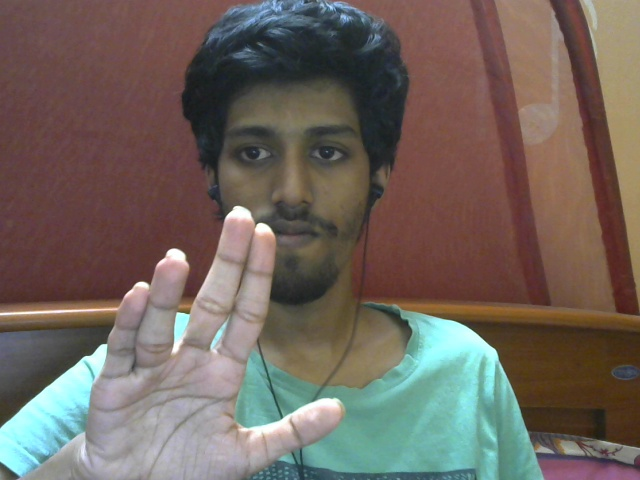LiveLong: (80, 206, 346, 480)
